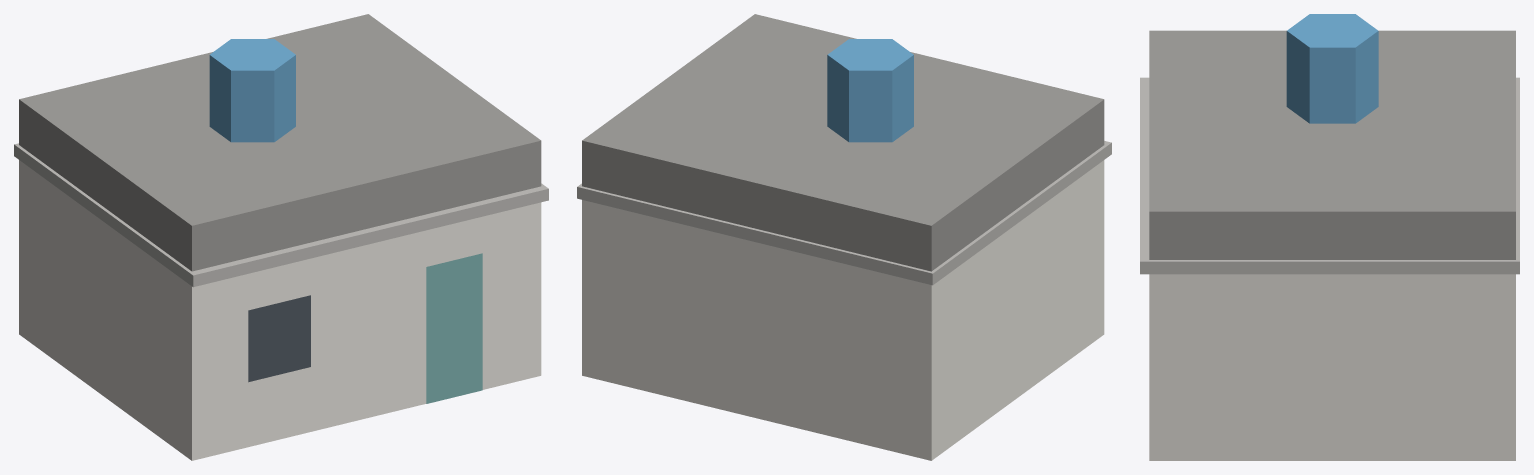
3 views of the same model, side by side, from view 1: azimuth 30°, elevation 25°; view 2: azimuth 150°, elevation 25°; view 3: azimuth 270°, elevation 25° (orthographic). The views are drawn at different scales.
Visible parts, largest first — view 1: fv_h09.lod1; view 2: fv_h09.lod1; view 3: fv_h09.lod1.
Boxes of the visible parts, x1,y1,x2,y2 form: fv_h09.lod1: (14,14,548,460); fv_h09.lod1: (577,14,1111,460); fv_h09.lod1: (1140,14,1519,460).
Size of the model in its own units: 5.7 by 4.7 by 4.97.
